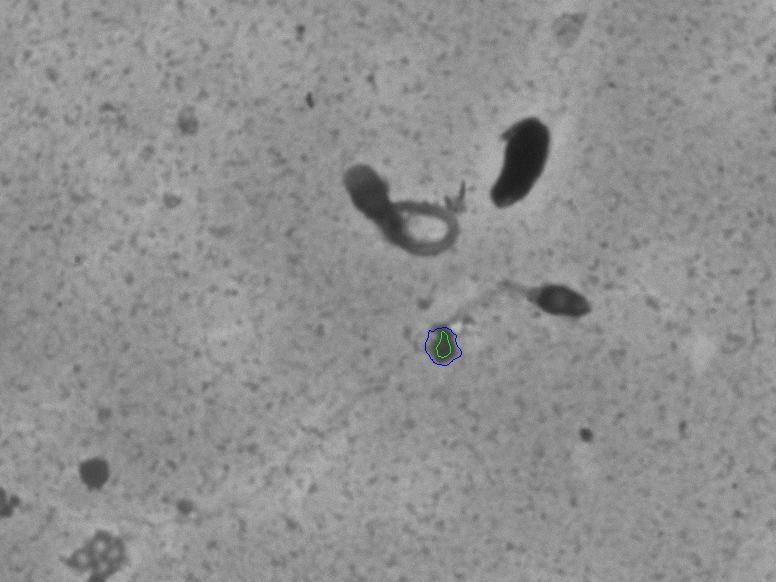Abnormal: (317, 142, 478, 278), (481, 248, 631, 363)
